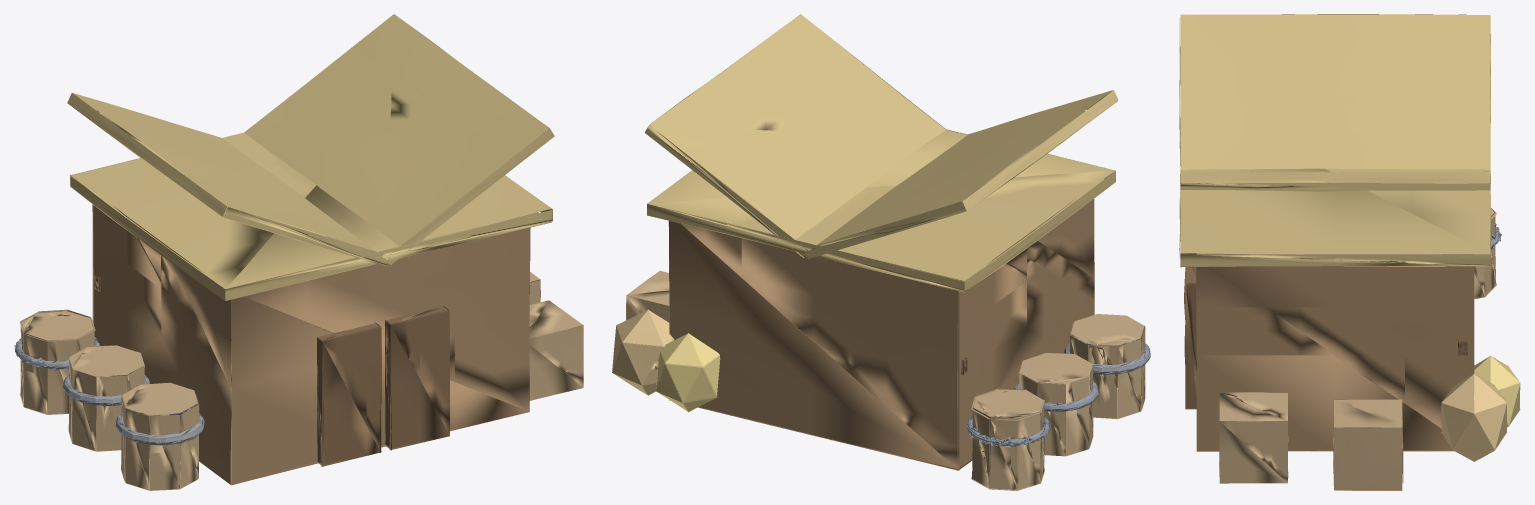
File: warehouse.glb
The picture shows the model from 3 angles, left to right: view 1: azimuth 30°, elevation 25°; view 2: azimuth 150°, elevation 25°; view 3: azimuth 270°, elevation 25°; orthographic projection. The views are drawn at different scales.
Parts seen in each view (by area): view 1: WarehouseBody; view 2: WarehouseBody; view 3: WarehouseBody.
Part boxes in pixels (x1=…): WarehouseBody: x1=14, y1=14, x2=583, y2=490; WarehouseBody: x1=612, y1=14, x2=1150, y2=490; WarehouseBody: x1=1179, y1=14, x2=1520, y2=490.
Bounding box in the file's own units: 3.24 × 1.95 × 2.09.
